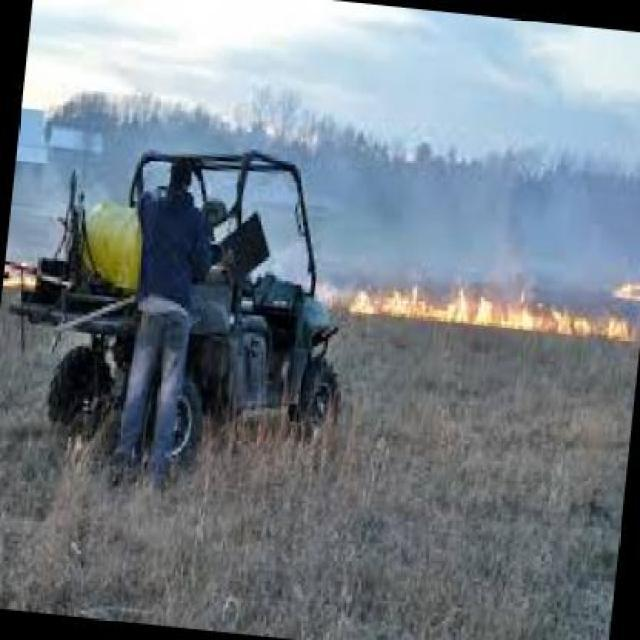Fire: (318, 270, 640, 344)
Smoke: (301, 112, 640, 272)
